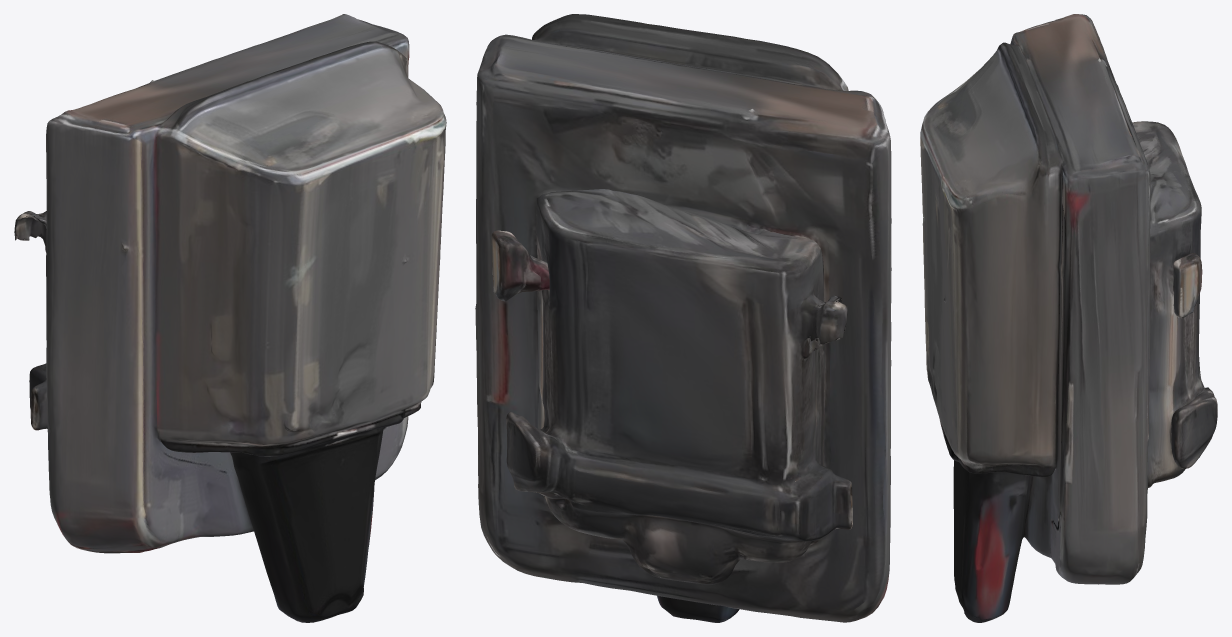
Rendered from hand_dryer.glb.
The picture shows the model from 3 angles, left to right: view 1: azimuth 30°, elevation 25°; view 2: azimuth 150°, elevation 25°; view 3: azimuth 270°, elevation 25°; orthographic projection. The views are drawn at different scales.
Parts seen in each view (by area): view 1: piece; view 2: piece; view 3: piece.
Boxes of the visible parts, x1,y1,x2,y2 form: piece: [14, 14, 446, 622]; piece: [475, 14, 891, 622]; piece: [920, 14, 1217, 622].
Bounding box in the file's own units: 0.3488 × 0.5 × 0.26.
1 material, 1 textured.
